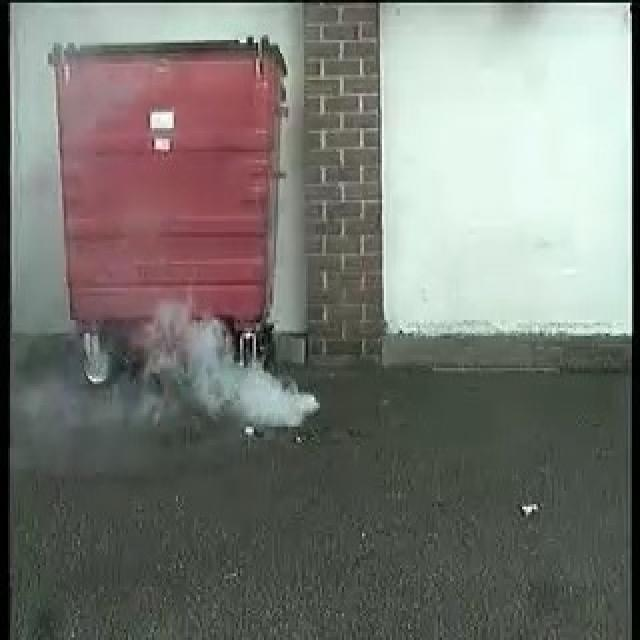smoke: (150, 306, 322, 437)
